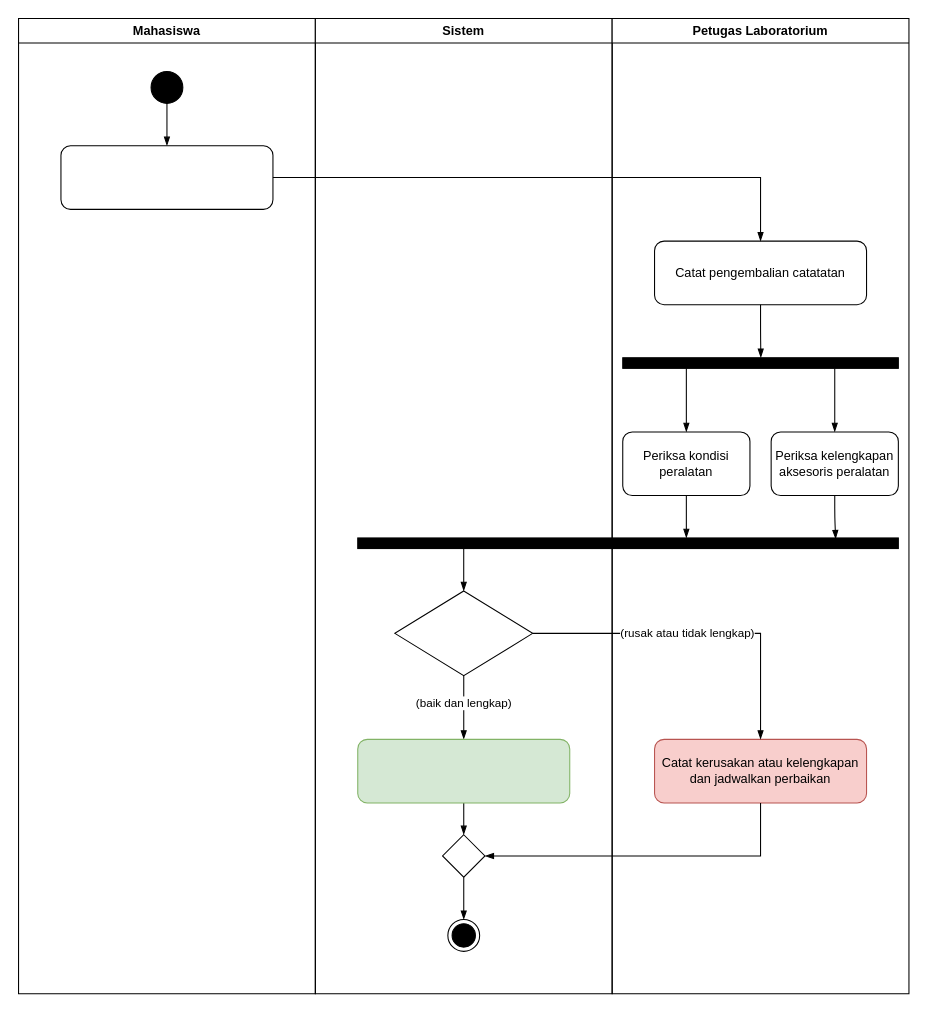
The diagram is 927 pixels wide and 1012 high, and some of its shapes have lost their labels. The shapes that lost their labels are listed below. From the top down, each one's centre as x and y in pixels, then its label:
the point at 166,177: Menyerahkan peralatan yang di pinjam
the point at 463,633: Kondisi peralatan baik dan lengkap
the point at 463,770: Perbarui status peralatan menjadi tersedia
